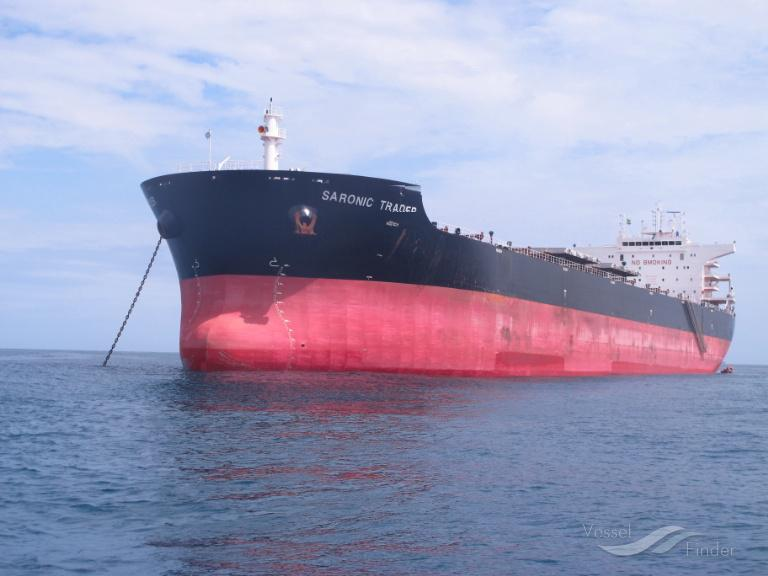OCR: (312, 180, 422, 212)
